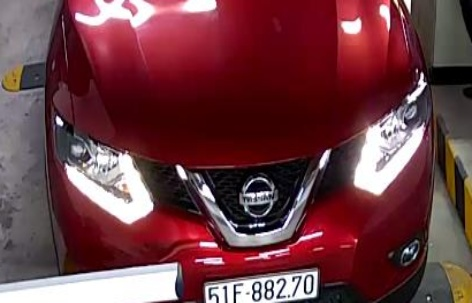plate: (203, 262, 327, 302)
